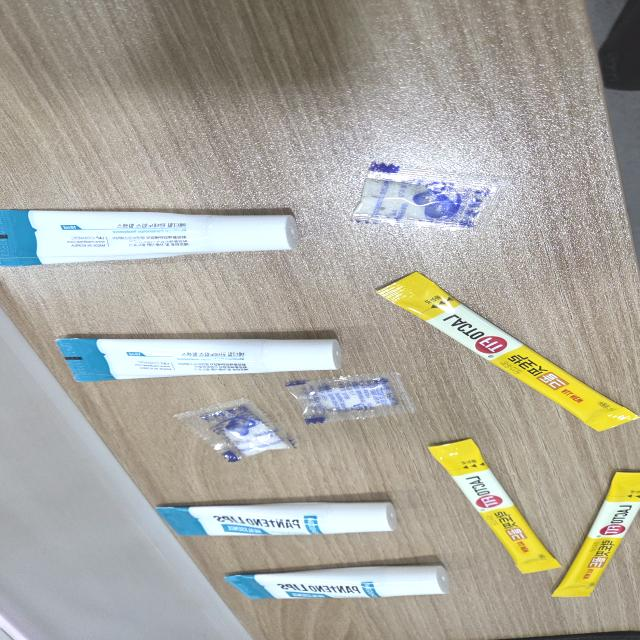lacto: (356, 259, 640, 439), (412, 429, 567, 582), (548, 465, 640, 606)
lip: (0, 194, 313, 275), (39, 329, 363, 394), (141, 491, 422, 542), (202, 561, 463, 607)
salt: (338, 160, 552, 244), (156, 390, 318, 471), (274, 369, 448, 430)
